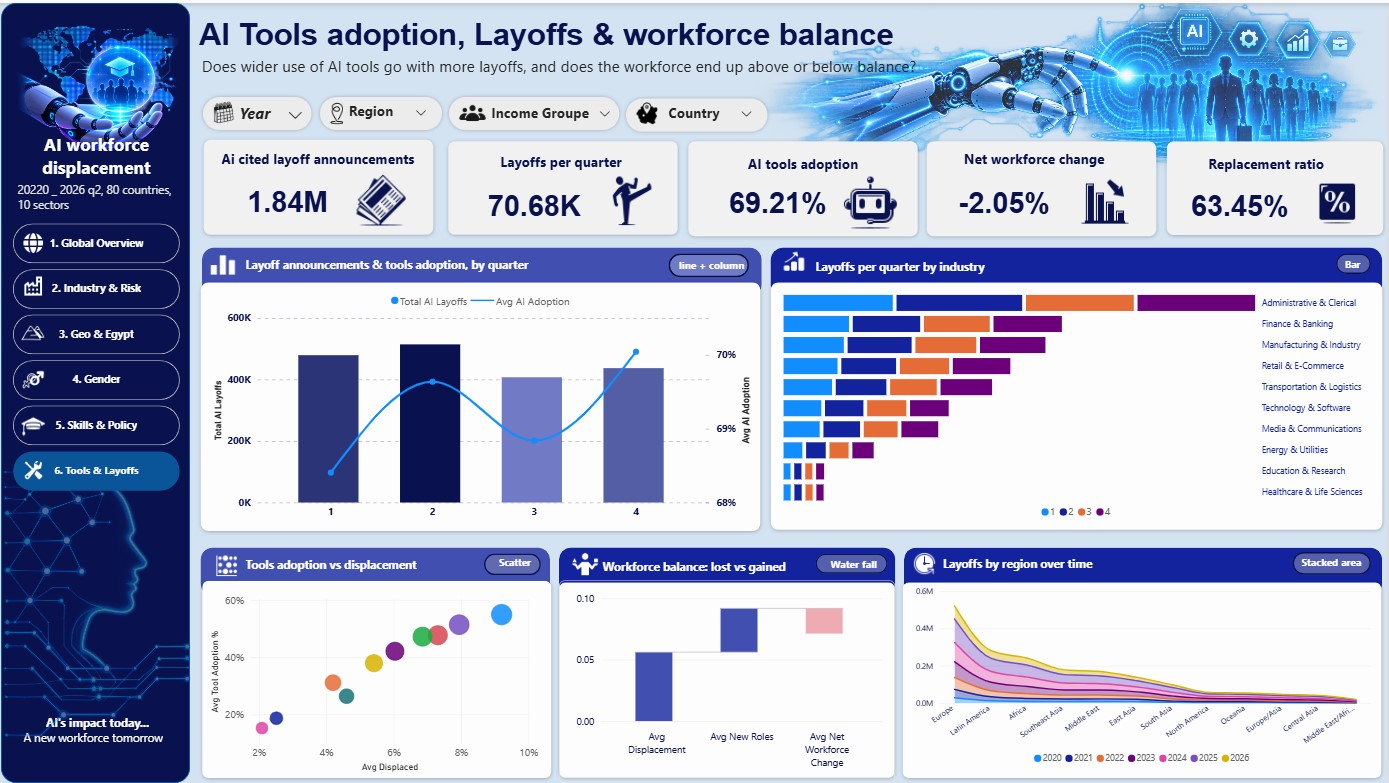

This screenshot's page, from the dashboard's own definition file:
{"tool":"powerbi","page":{"name":"6. Tools & Layoffs","canvas":[1920,1080],"ordinal":5},"visuals":[{"type":"shape","box":[772.2,754.4,465.7,65.7],"z":0},{"type":"shape","box":[0,0,261.7,1080],"z":1000},{"type":"image","box":[1013.4,0,905.4,245.9],"z":2000},{"type":"textbox","box":[273.4,18.4,988.1,71.2],"z":3000},{"type":"shape","box":[274.4,124.4,161.1,56.7],"z":4000},{"type":"textbox","box":[278,73.5,1001.9,50.6],"z":5000},{"type":"slicer","fields":{"Values":["year.year Hierarchy.year"]},"box":[295,132.5,133,44],"z":6000},{"type":"shape","box":[435.6,124.4,180,56.7],"z":7000},{"type":"image","box":[437.5,135,52.2,36.7],"z":8000},{"type":"slicer","fields":{"Values":["country.region"]},"box":[448.8,133.8,150,36.2],"z":9000},{"type":"shape","box":[615.6,124.4,246.7,56.7],"z":10000},{"type":"slicer","fields":{"Values":["country.income_group"]},"box":[656.7,135,196.7,36.7],"z":11000},{"type":"image","box":[627.5,133.8,51.1,36.7],"z":12000},{"type":"shape","box":[275,183,330.9,144.8],"z":13000},{"type":"textbox","box":[305.6,204.5,271.1,32.2],"z":14000},{"type":"image","box":[464.2,236.7,126.4,71.2],"z":15000},{"type":"cardVisual","fields":{"Data":["_Measures.Total AI Layoffs"]},"box":[312.5,232.5,170,84.3],"z":16000},{"type":"shape","box":[612.7,185.3,330.9,142.5],"z":17000},{"type":"textbox","box":[691.7,206.8,190.7,32.2],"z":18000},{"type":"image","box":[822.6,239,101.1,68.9],"z":19000},{"type":"shape","box":[318.8,137.5,27.5,35],"z":20000},{"type":"cardVisual","fields":{"Data":["_Measures.Layoffs per Quarter"]},"box":[655.7,238.6,164.3,82.9],"z":21000},{"type":"image","box":[272.5,133.8,73.3,37.8],"z":22000},{"type":"textbox","box":[330,137.5,50,30],"z":23000},{"type":"shape","box":[680,137.5,25,35],"z":24000},{"type":"shape","box":[473.8,135,31.2,35],"z":25000},{"type":"textbox","box":[482.5,137.5,77.5,28.8],"z":26000},{"type":"textbox","box":[678.8,140,138.9,28.9],"z":27000},{"type":"shape","box":[944.3,185.7,330.9,144.8],"z":28000},{"type":"textbox","box":[1034,209.1,186.1,25.3],"z":29000},{"type":"image","box":[1146.6,239,114.9,73.5],"z":30000},{"type":"cardVisual","fields":{"Data":["_Measures.Avg AI Adoption"]},"box":[990.4,234.4,170,84.3],"z":31000},{"type":"shape","box":[1275.7,185.7,330.9,144.8],"z":32000},{"type":"image","box":[1472.9,239,112.6,66.6],"z":33000},{"type":"cardVisual","fields":{"Data":["_Measures.Avg Net Change"]},"box":[1303.8,233.8,170,84.3],"z":34000},{"type":"textbox","box":[1332.8,204.5,213.7,34.5],"z":35000},{"type":"shape","box":[1607.1,185.7,312.9,142.9],"z":36000},{"type":"image","box":[1799.2,245.9,103.4,59.7],"z":37000},{"type":"cardVisual","fields":{"Data":["_Measures.Replacement Ratio"]},"box":[1630,238.6,170,84.3],"z":38000},{"type":"textbox","box":[1672.9,209.1,179.2,27.6],"z":39000},{"type":"shape","box":[278,338,775,68],"z":40000},{"type":"image","box":[284.9,342.4,45.7,40],"z":41000},{"type":"textbox","box":[337.8,351.6,441.2,29.9],"z":42000},{"type":"shape","box":[270,380,788,357.5],"z":43000},{"type":"shape","box":[1066,338,847,69],"z":44000},{"type":"image","box":[787.5,757.5,43,37],"z":45000},{"type":"textbox","box":[832.5,767.5,282.6,23],"z":46000},{"type":"shape","box":[1060,380,860,356],"z":47000},{"type":"shape","box":[277.1,754.3,484,67.1],"z":48000},{"type":"image","box":[292.5,762.5,39,34],"z":49000},{"type":"textbox","box":[338.3,766.7,266.7,26.7],"z":50000},{"type":"shape","box":[271.2,793.8,496.2,286.2],"z":51000},{"type":"shape","box":[668.8,761.2,78.8,30],"z":52000},{"type":"textbox","box":[688.8,765,80,25.7],"z":53000},{"type":"image","box":[1080,342.5,36,32],"z":54000},{"type":"textbox","box":[1127.5,352.5,278.3,31.7],"z":55000},{"type":"shape","box":[766.2,796.2,477.5,283.8],"z":56000},{"type":"shape","box":[1250,754.4,662.2,66.7],"z":57000},{"type":"image","box":[1261.1,760,36,32],"z":58000},{"type":"textbox","box":[1304,764,348.6,31.4],"z":59000},{"type":"shape","box":[1788.6,760,108.6,31.4],"z":60000},{"type":"textbox","box":[1800,764.3,97.1,34.3],"z":61000},{"type":"image","box":[0,18.4,271.1,218.3],"z":62000},{"type":"textbox","box":[41.4,179.2,181.5,87.3],"z":63000},{"type":"textbox","box":[23,248.2,227.1,61.4],"z":64000},{"type":"textbox","box":[61.7,985,143.3,25],"z":65000},{"type":"textbox","box":[31.7,1005,203.3,33.3],"z":66000},{"type":"image","box":[0,636.5,262,418.2],"z":67000},{"type":"pageNavigator","box":[16.2,304.5,231.2,371.2],"z":68000},{"type":"image","box":[27.7,315.3,35,33],"z":69000},{"type":"image","box":[27.7,376.3,35,33],"z":70000},{"type":"image","box":[27.7,440.3,35,33],"z":71000},{"type":"image","box":[27.7,504.3,35,33],"z":72000},{"type":"image","box":[27.7,568.3,35,33],"z":73000},{"type":"image","box":[29.7,631.3,32,31],"z":74000},{"type":"shape","box":[860,126,207,57],"z":75000},{"type":"slicer","fields":{"Values":["country.country"]},"box":[902,134,148,37],"z":76000},{"type":"image","box":[872.9,137,44,31],"z":77000},{"type":"shape","box":[925.4,136.4,25,35],"z":78000},{"type":"textbox","box":[924,139,72,29],"z":79000},{"type":"shape","box":[924.3,347.1,111.4,32.9],"z":80000},{"type":"textbox","box":[938.6,352.9,91.2,25],"z":81000},{"type":"scatterChart","fields":{"Category":["sector.industry_sector"],"Series":["sector.industry_sector"],"Size":["_Measures.Avg Tool Adoption %"],"X":["_Measures.Avg Displaced"],"Y":["_Measures.Avg Tool Adoption %"]},"box":[275,801.2,486.2,278.8],"z":82000},{"type":"barChart","fields":{"Category":["sector.industry_sector"],"Series":["year.quarter"],"Y":["_Measures.Layoffs per Quarter"]},"box":[1067.5,382.5,845,352.5],"z":83000},{"type":"shape","box":[1848.3,346.7,48.3,28.3],"z":84000},{"type":"textbox","box":[1860,350,36.7,26.7],"z":85000},{"type":"shape","box":[1242.9,795.7,675.7,284.3],"z":86000},{"type":"lineStackedColumnComboChart","fields":{"Category":["year.quarter"],"Y":["_Measures.Total AI Layoffs"],"Y2":["_Measures.Avg AI Adoption"]},"box":[277.5,382.5,775,352.5],"z":87000},{"type":"waterfallChart","fields":{"Category":["WF Steps.Step"],"Y":["WF Steps.Waterfall Value"]},"box":[772.5,800,465,280],"z":88000},{"type":"shape","box":[1128,762,100,28],"z":89000},{"type":"textbox","box":[1148,766,72,24],"z":90000},{"type":"stackedAreaChart","fields":{"Category":["country.region"],"Series":["year.year"],"Y":["_Measures.Total AI Layoffs"]},"box":[1250,792,662,284],"z":91000}]}

Visuals, with their boxes in screenshot pixels (x1, y1, x2, y2), scaled from the page's 1920x1080 canvas onto the 1389x783 screenshot:
shape: Rect(559, 547, 896, 595)
shape: Rect(0, 0, 189, 782)
image: Rect(733, 0, 1388, 178)
textbox: Rect(198, 13, 913, 65)
shape: Rect(199, 90, 315, 131)
textbox: Rect(201, 53, 926, 90)
slicer - year.year Hierarchy.year: Rect(213, 96, 310, 128)
shape: Rect(315, 90, 445, 131)
image: Rect(317, 98, 354, 124)
slicer - country.region: Rect(325, 97, 433, 123)
shape: Rect(445, 90, 624, 131)
slicer - country.income_group: Rect(475, 98, 617, 124)
image: Rect(454, 97, 491, 124)
shape: Rect(199, 133, 438, 238)
textbox: Rect(221, 148, 417, 172)
image: Rect(336, 172, 427, 223)
cardVisual - _Measures.Total AI Layoffs: Rect(226, 169, 349, 230)
shape: Rect(443, 134, 683, 238)
textbox: Rect(500, 150, 638, 173)
image: Rect(595, 173, 668, 223)
shape: Rect(231, 100, 251, 125)
cardVisual - _Measures.Layoffs per Quarter: Rect(474, 173, 593, 233)
image: Rect(197, 97, 250, 124)
textbox: Rect(239, 100, 275, 121)
shape: Rect(492, 100, 510, 125)
shape: Rect(343, 98, 365, 123)
textbox: Rect(349, 100, 405, 121)
textbox: Rect(491, 102, 592, 122)
shape: Rect(683, 135, 923, 240)
textbox: Rect(748, 152, 883, 170)
image: Rect(829, 173, 913, 227)
cardVisual - _Measures.Avg AI Adoption: Rect(716, 170, 839, 231)
shape: Rect(923, 135, 1162, 240)
image: Rect(1066, 173, 1147, 222)
cardVisual - _Measures.Avg Net Change: Rect(943, 170, 1066, 231)
textbox: Rect(964, 148, 1119, 173)
shape: Rect(1163, 135, 1388, 238)
image: Rect(1302, 178, 1376, 222)
cardVisual - _Measures.Replacement Ratio: Rect(1179, 173, 1302, 234)
textbox: Rect(1210, 152, 1340, 172)
shape: Rect(201, 245, 762, 294)
image: Rect(206, 248, 239, 277)
textbox: Rect(244, 255, 564, 277)
shape: Rect(195, 276, 765, 535)
shape: Rect(771, 245, 1384, 295)
image: Rect(570, 549, 601, 576)
textbox: Rect(602, 556, 807, 573)
shape: Rect(767, 276, 1388, 534)
shape: Rect(200, 547, 551, 596)
image: Rect(212, 553, 240, 577)
textbox: Rect(245, 556, 438, 575)
shape: Rect(196, 576, 555, 782)
shape: Rect(484, 552, 541, 574)
textbox: Rect(498, 555, 556, 573)
image: Rect(781, 248, 807, 272)
textbox: Rect(816, 256, 1017, 279)
shape: Rect(554, 577, 900, 782)
shape: Rect(904, 547, 1383, 595)
image: Rect(912, 551, 938, 574)
textbox: Rect(943, 554, 1196, 577)
shape: Rect(1294, 551, 1373, 574)
textbox: Rect(1302, 554, 1372, 579)
image: Rect(0, 13, 196, 172)
textbox: Rect(30, 130, 161, 193)
textbox: Rect(17, 180, 181, 224)
textbox: Rect(45, 714, 148, 732)
textbox: Rect(23, 729, 170, 753)
image: Rect(0, 461, 190, 765)
pageNavigator: Rect(12, 221, 179, 490)
image: Rect(20, 229, 45, 253)
image: Rect(20, 273, 45, 297)
image: Rect(20, 319, 45, 343)
image: Rect(20, 366, 45, 390)
image: Rect(20, 412, 45, 436)
image: Rect(21, 458, 45, 480)
shape: Rect(622, 91, 772, 133)
slicer - country.country: Rect(653, 97, 760, 124)
image: Rect(631, 99, 663, 122)
shape: Rect(669, 99, 688, 124)
textbox: Rect(668, 101, 721, 122)
shape: Rect(669, 252, 749, 276)
textbox: Rect(679, 256, 745, 274)
scatterChart - sector.industry_sector x sector.industry_sector: Rect(199, 581, 551, 782)
barChart - sector.industry_sector x year.quarter: Rect(772, 277, 1384, 533)
shape: Rect(1337, 251, 1372, 272)
textbox: Rect(1346, 254, 1372, 273)
shape: Rect(899, 577, 1388, 782)
lineStackedColumnComboChart - year.quarter x _Measures.Total AI Layoffs: Rect(201, 277, 761, 533)
waterfallChart - WF Steps.Step x WF Steps.Waterfall Value: Rect(559, 580, 895, 782)
shape: Rect(816, 552, 888, 573)
textbox: Rect(831, 555, 883, 573)
stackedAreaChart - country.region x year.year: Rect(904, 574, 1383, 780)
